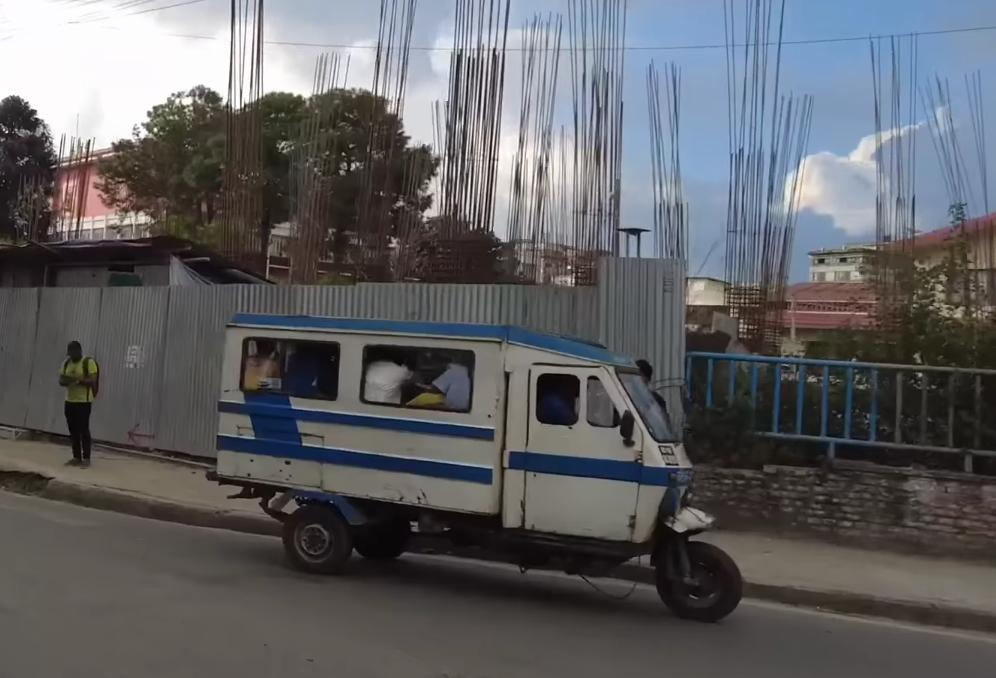tempo: (202, 301, 762, 636)
